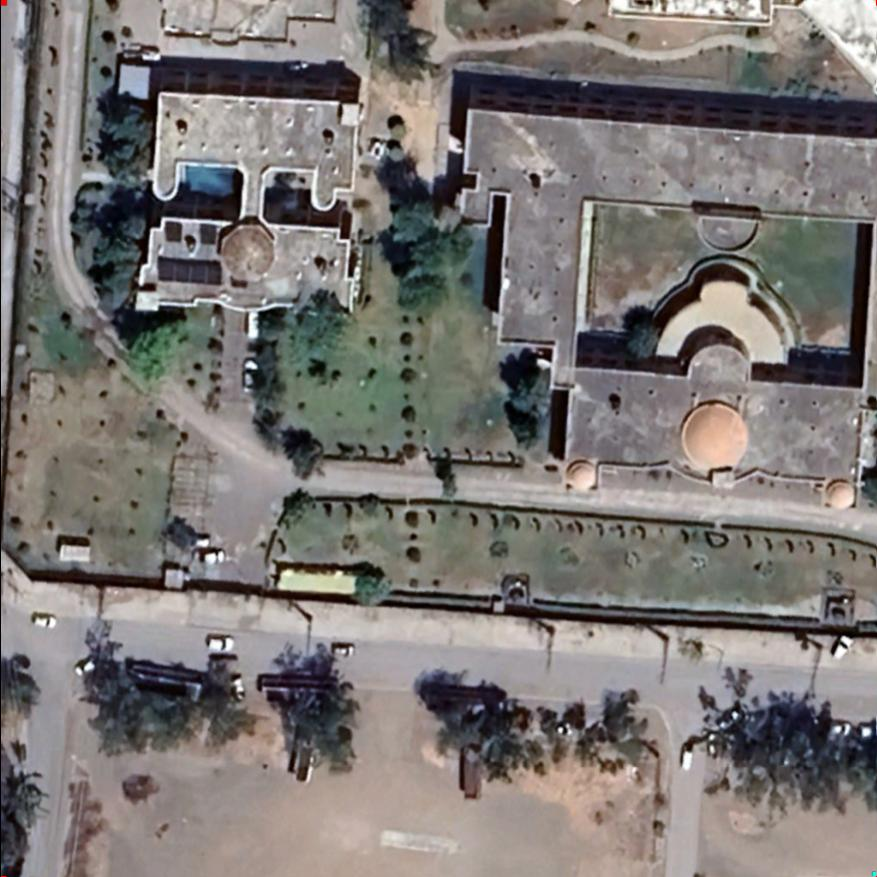Solarpanel: (155, 254, 224, 289), (160, 222, 183, 244), (196, 222, 217, 246)
